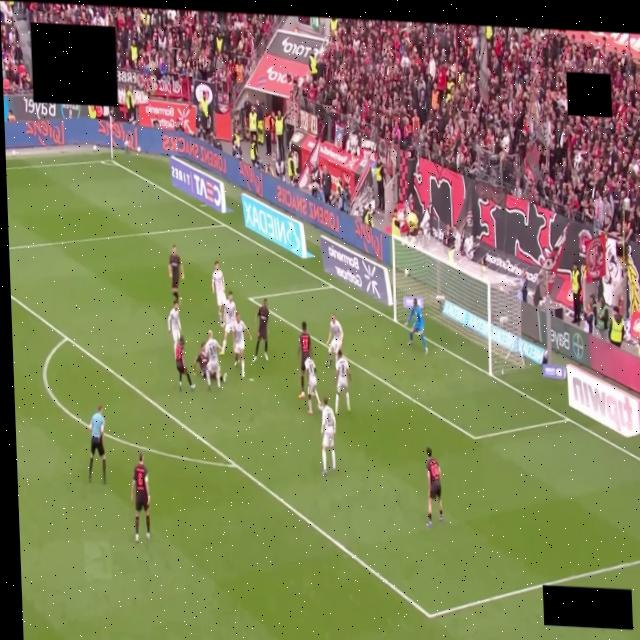player: (130, 453, 149, 541), (426, 447, 442, 527), (203, 330, 224, 389), (232, 313, 250, 378), (297, 321, 312, 398), (320, 398, 335, 475), (407, 299, 427, 353), (174, 337, 194, 391), (252, 299, 268, 361), (335, 350, 350, 414), (220, 291, 235, 354), (211, 261, 225, 327), (305, 358, 321, 414), (168, 245, 183, 302), (326, 314, 342, 365), (167, 302, 181, 344), (192, 343, 207, 379), (192, 343, 207, 377)
referee: (88, 405, 106, 484)
